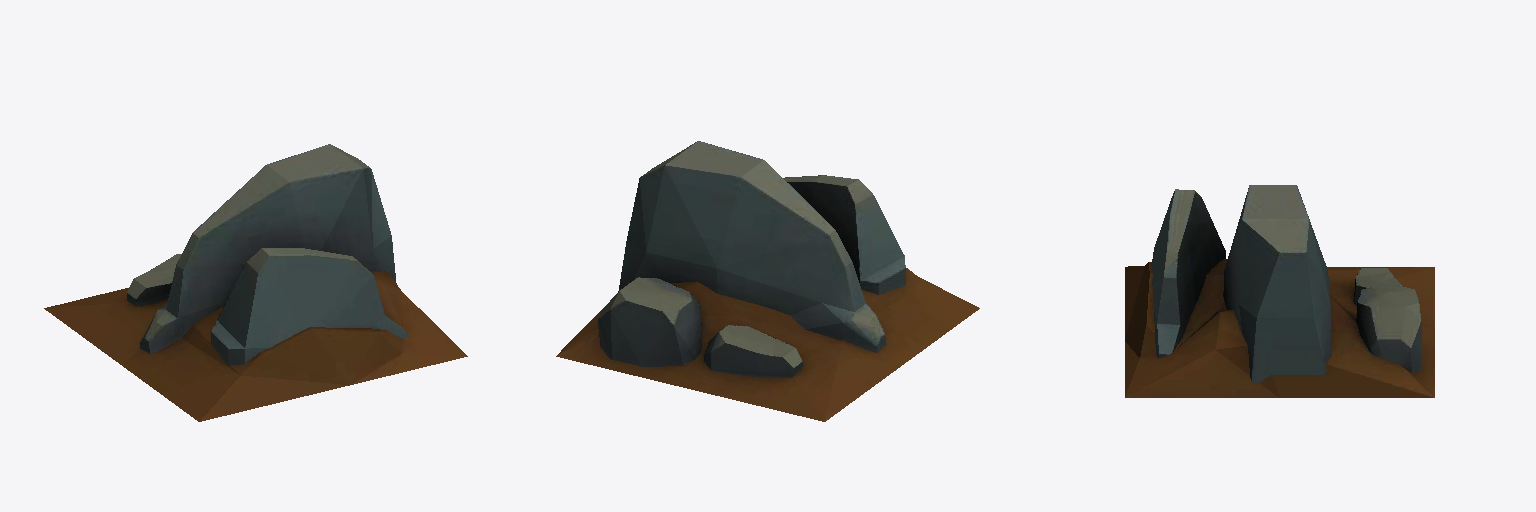
3 renders of one model, left to right at view 1: azimuth 30°, elevation 25°; view 2: azimuth 150°, elevation 25°; view 3: azimuth 270°, elevation 25°, orthographic.
Parts seen in each view (by area): view 1: OBJ_SmallRock_08; view 2: OBJ_SmallRock_08; view 3: OBJ_SmallRock_08.
Part boxes in pixels (bbox=[...]): OBJ_SmallRock_08: bbox=[44, 144, 467, 421]; OBJ_SmallRock_08: bbox=[556, 141, 979, 421]; OBJ_SmallRock_08: bbox=[1125, 185, 1434, 397].
Size of the model in its own units: 1.8 by 1.03 by 1.8.
Materials: 1 (1 with a texture image).